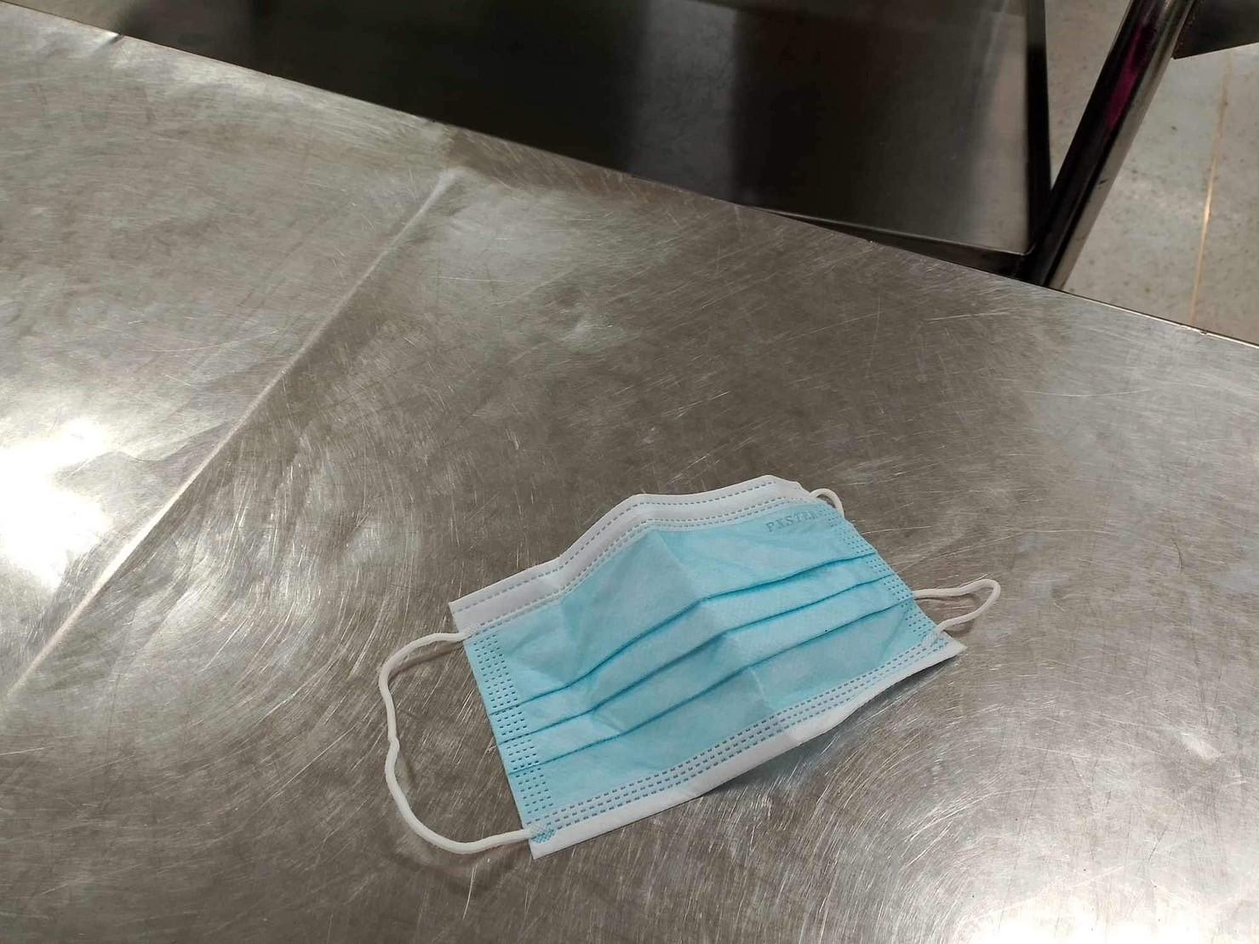General: (378, 472, 996, 862)
Sharps: (1016, 0, 1256, 291)
